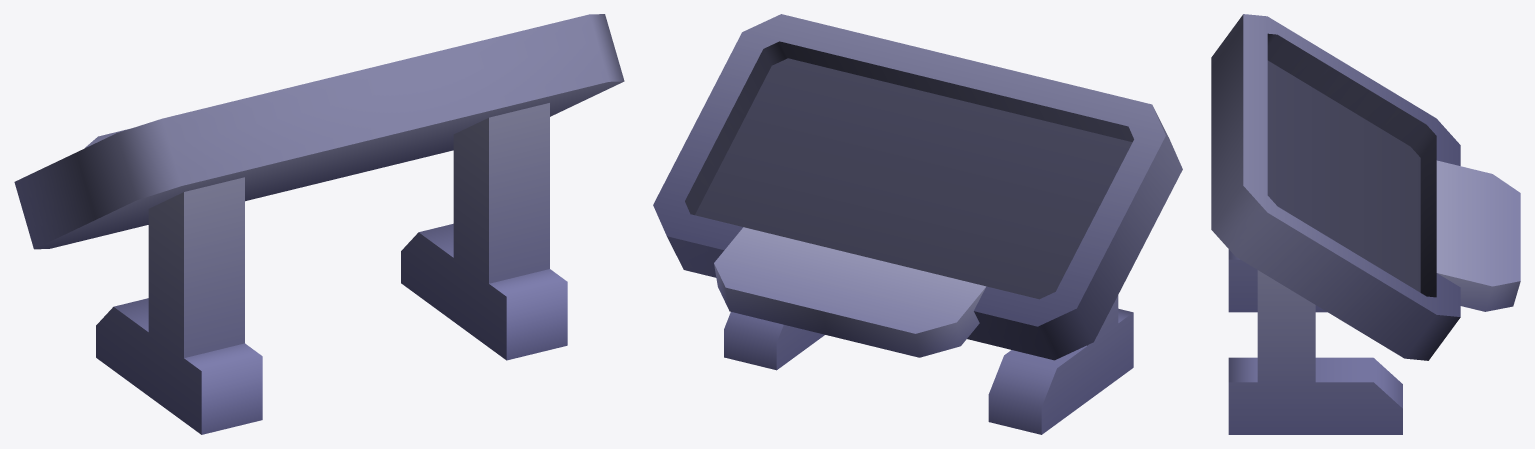
The model's file is kenney-factory-screen-panel-flat.glb.
3 views of the same model, side by side, from view 1: azimuth 30°, elevation 25°; view 2: azimuth 150°, elevation 25°; view 3: azimuth 270°, elevation 25° (orthographic). The views are drawn at different scales.
Parts seen in each view (by area): view 1: screen-panel-flat; view 2: screen-panel-flat; view 3: screen-panel-flat.
Boxes of the visible parts, x1=… form: screen-panel-flat: x1=14, y1=14, x2=624, y2=434; screen-panel-flat: x1=653, y1=14, x2=1182, y2=434; screen-panel-flat: x1=1211, y1=14, x2=1520, y2=434.
Size of the model in its own units: 1.8 by 1.12 by 1.2.
Materials: 1 (1 with a texture image).
